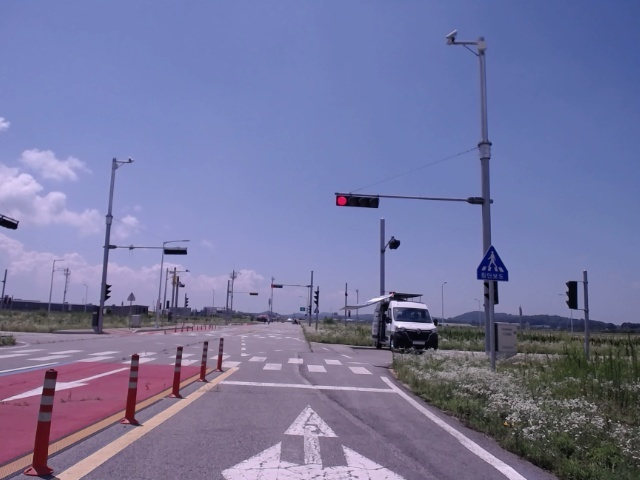red_4: (336, 196, 378, 207)
